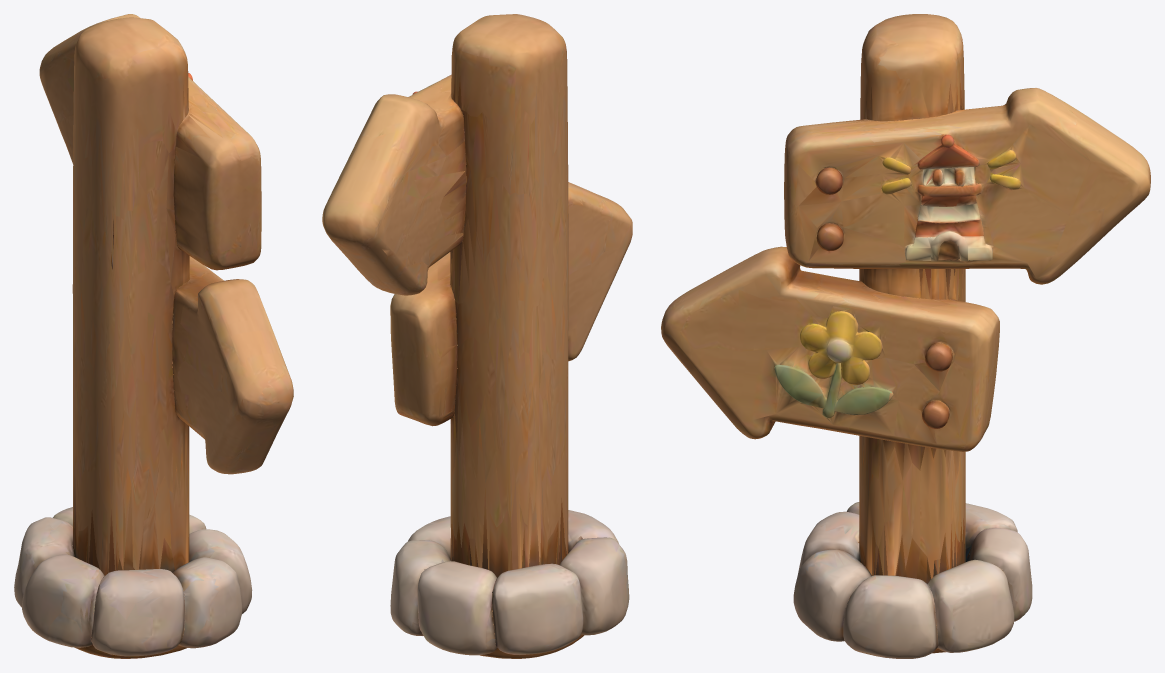
The picture shows the model from 3 angles, left to right: view 1: azimuth 30°, elevation 25°; view 2: azimuth 150°, elevation 25°; view 3: azimuth 270°, elevation 25°; orthographic projection.
Parts seen in each view (by area): view 1: P03-wooden-signpost; view 2: P03-wooden-signpost; view 3: P03-wooden-signpost.
Part boxes in pixels (bbox=[...]): P03-wooden-signpost: bbox=[14, 14, 293, 658]; P03-wooden-signpost: bbox=[322, 14, 632, 658]; P03-wooden-signpost: bbox=[661, 14, 1150, 658].
Bounding box in the file's own units: 0.6374 × 1.75 × 1.3.
1 material, 1 textured.
